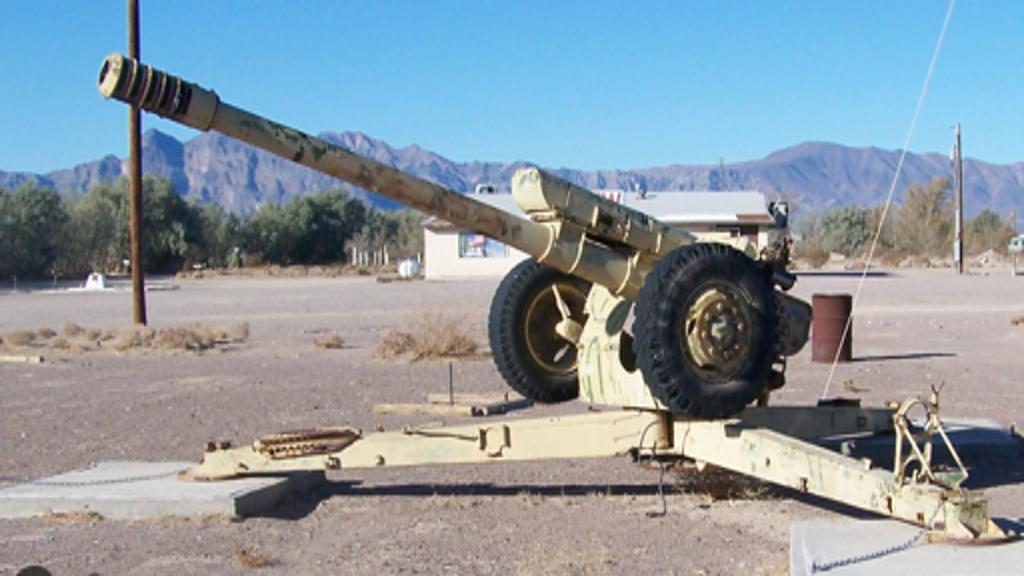ART: (96, 50, 1010, 544)
